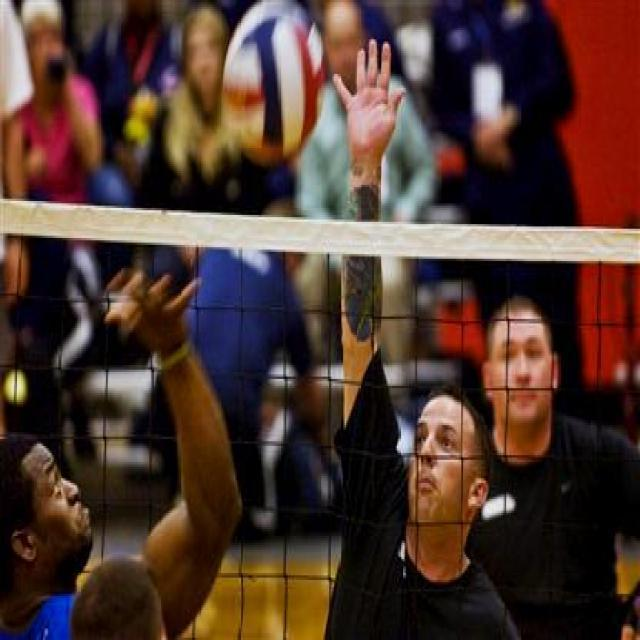volleyball: (224, 1, 325, 163)
